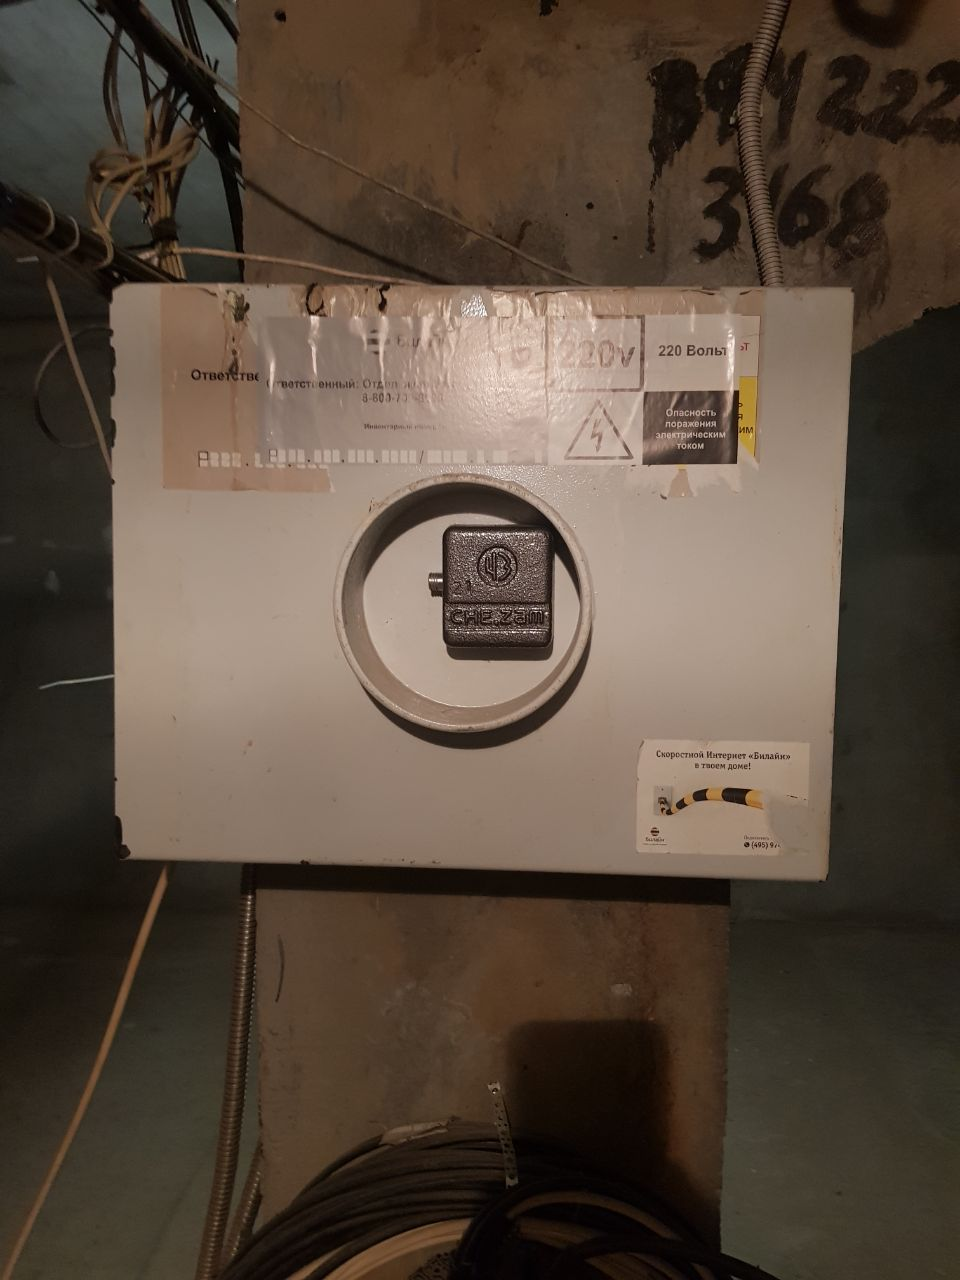shta-3: (103, 274, 856, 888)
